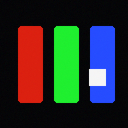1 square: (89, 69, 105, 85)
